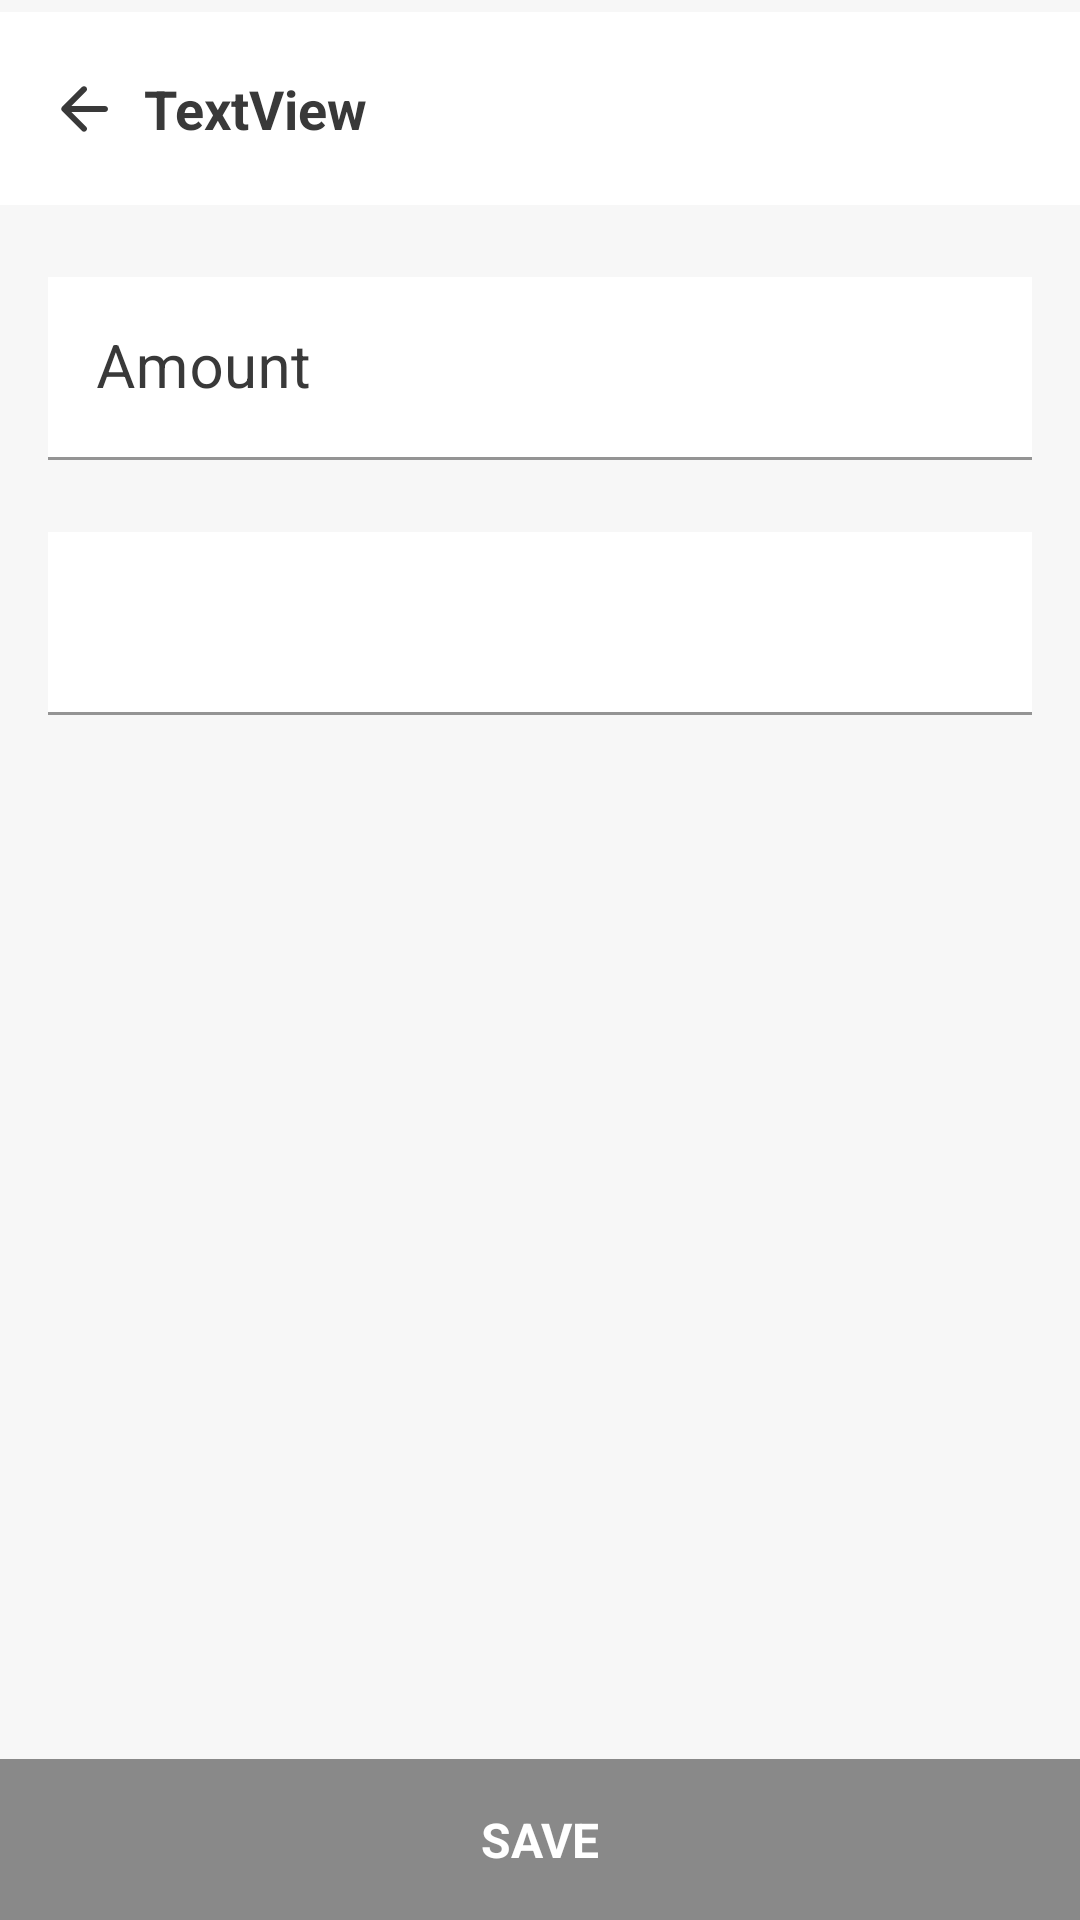

Screen size 1080w x 1920h. Icon name, then its box in pixels as {"x1": x1, "y1": y1, "x2": x2, "y2": y2}:
arrow back: {"x1": 61, "y1": 86, "x2": 108, "y2": 132}
